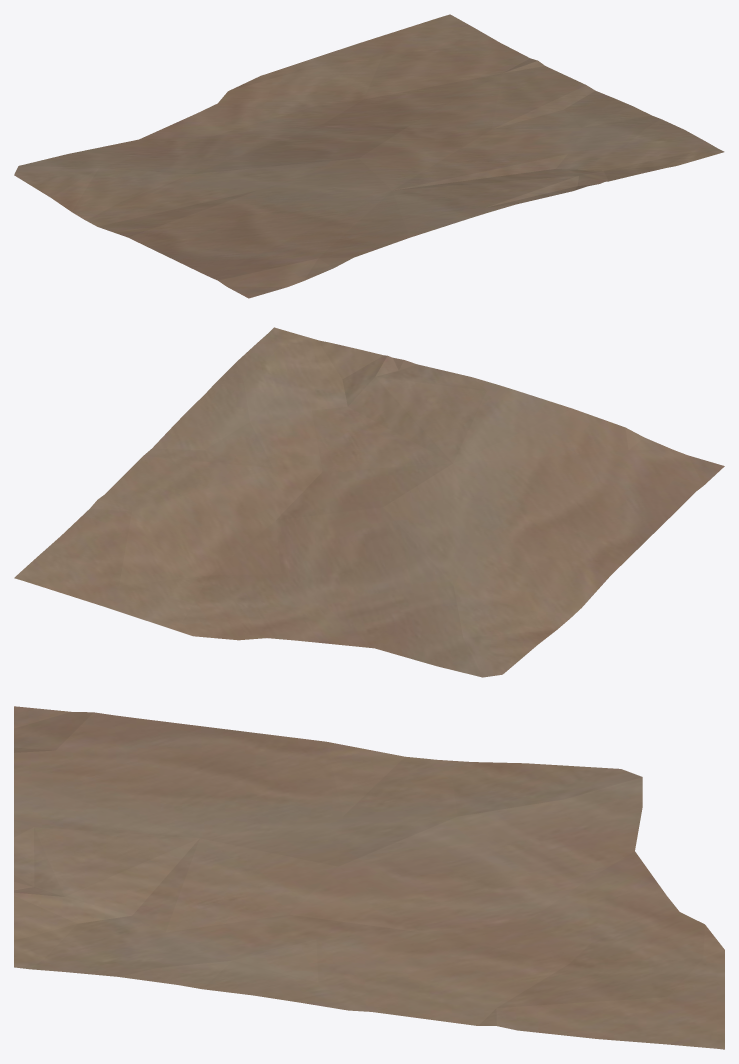
3 renders of one model, top to bottom at view 1: azimuth 30°, elevation 25°; view 2: azimuth 150°, elevation 25°; view 3: azimuth 270°, elevation 25°, orthographic. The views are drawn at different scales.
Bounding box in the file's own units: 1.04 × 0.1653 × 1.04.
Materials: 3 (3 with a texture image).
